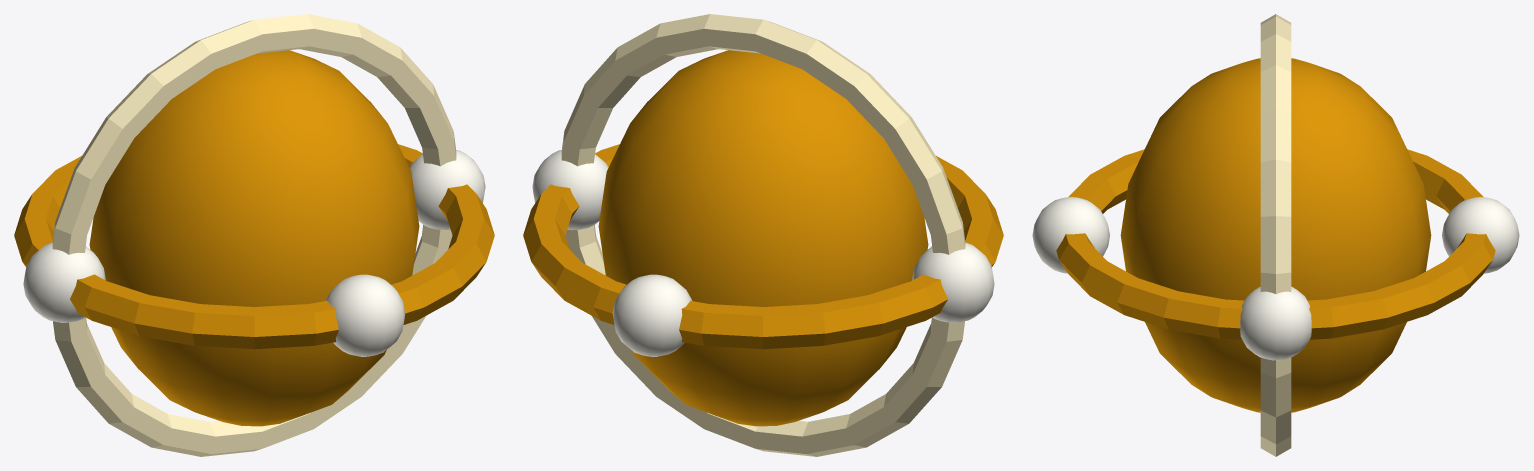
Rendered from master_core.glb.
3 views of the same model, side by side, from view 1: azimuth 30°, elevation 25°; view 2: azimuth 150°, elevation 25°; view 3: azimuth 270°, elevation 25° (orthographic). The views are drawn at different scales.
Visible parts, largest first — view 1: master_core; view 2: master_core; view 3: master_core.
Part boxes in pixels (box(x1,y1,x2,y2)): master_core: box(14, 14, 494, 456); master_core: box(523, 14, 1003, 456); master_core: box(1032, 14, 1519, 456).
Size of the model in its own units: 0.69 by 0.63 by 0.69.
